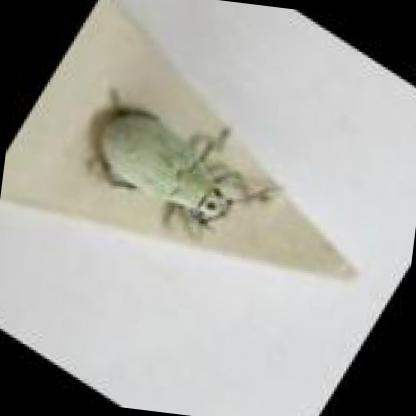ash weevil: (95, 108, 234, 224)
